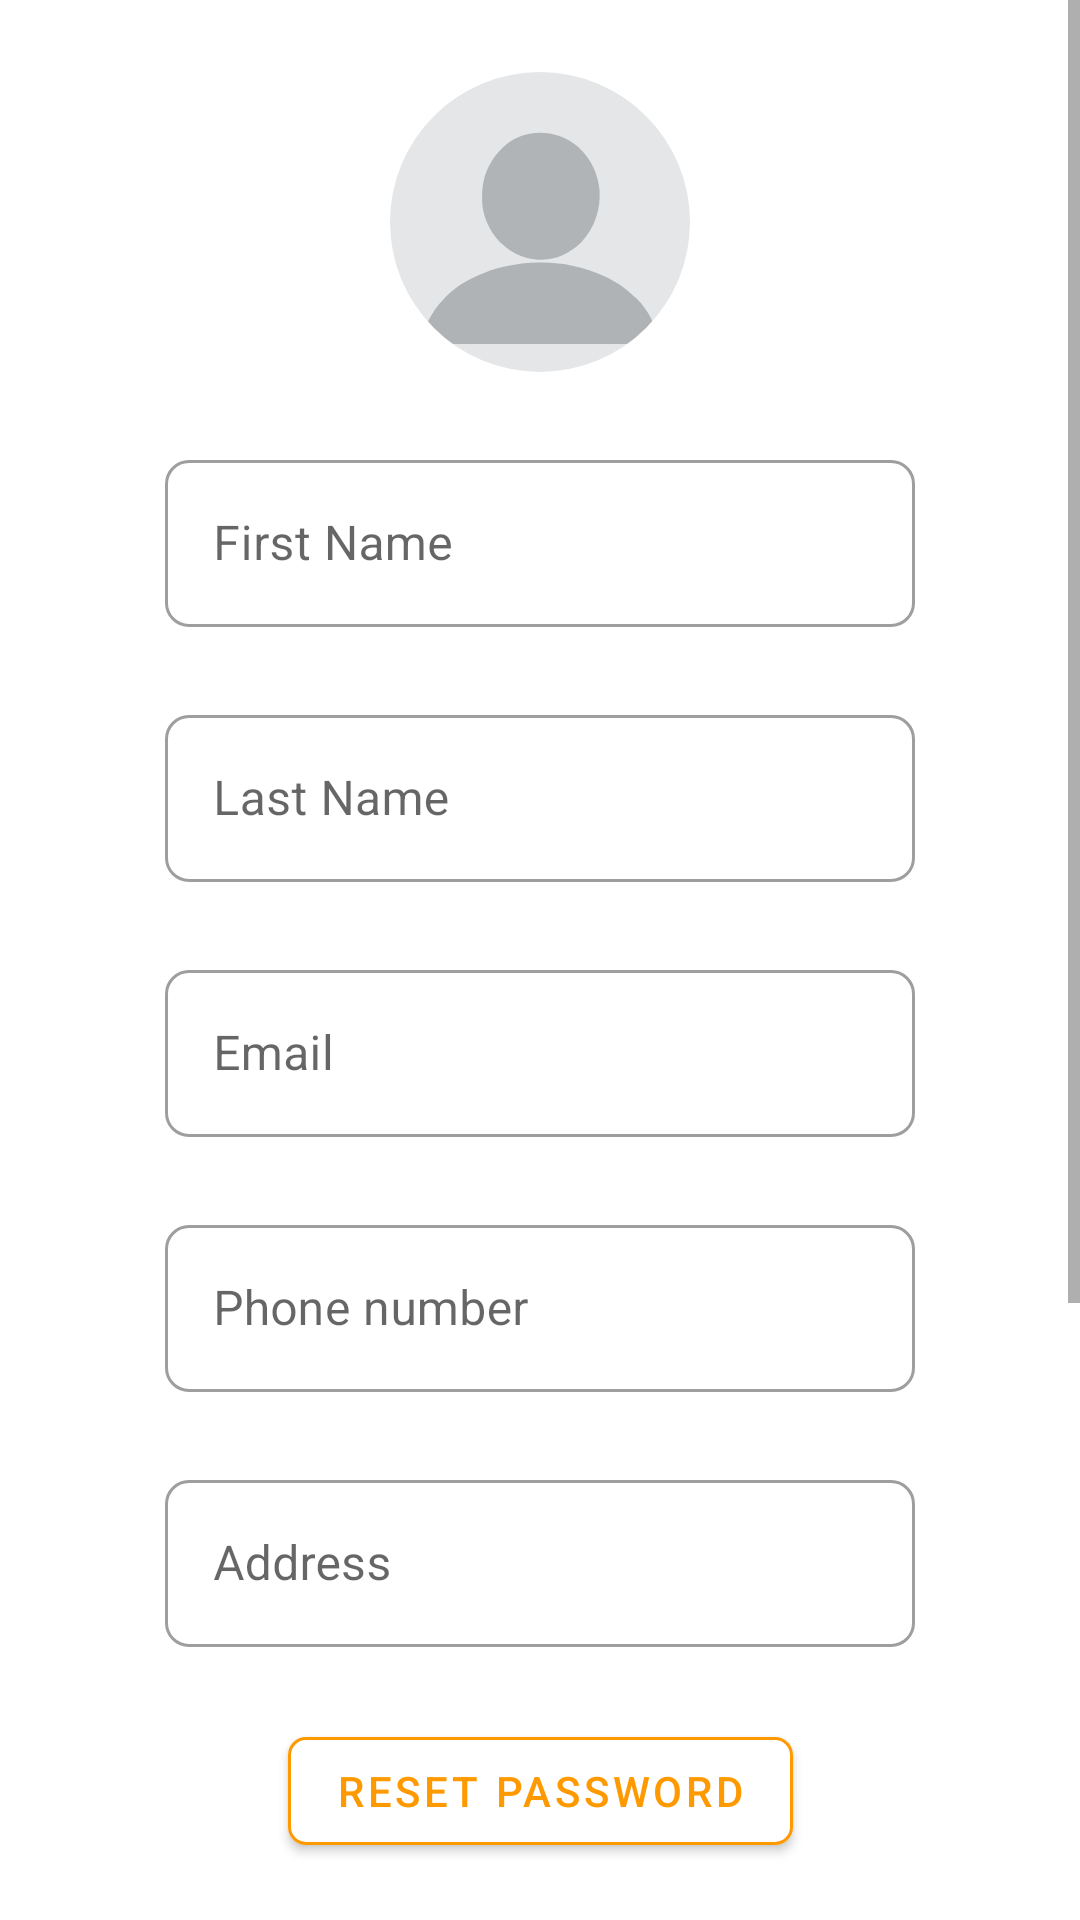

Locate icon controls on the screen. Image size 1080w x 1920h, boxes as (x1, y1, x2, y2).
blank profile: (390, 72, 690, 372)
